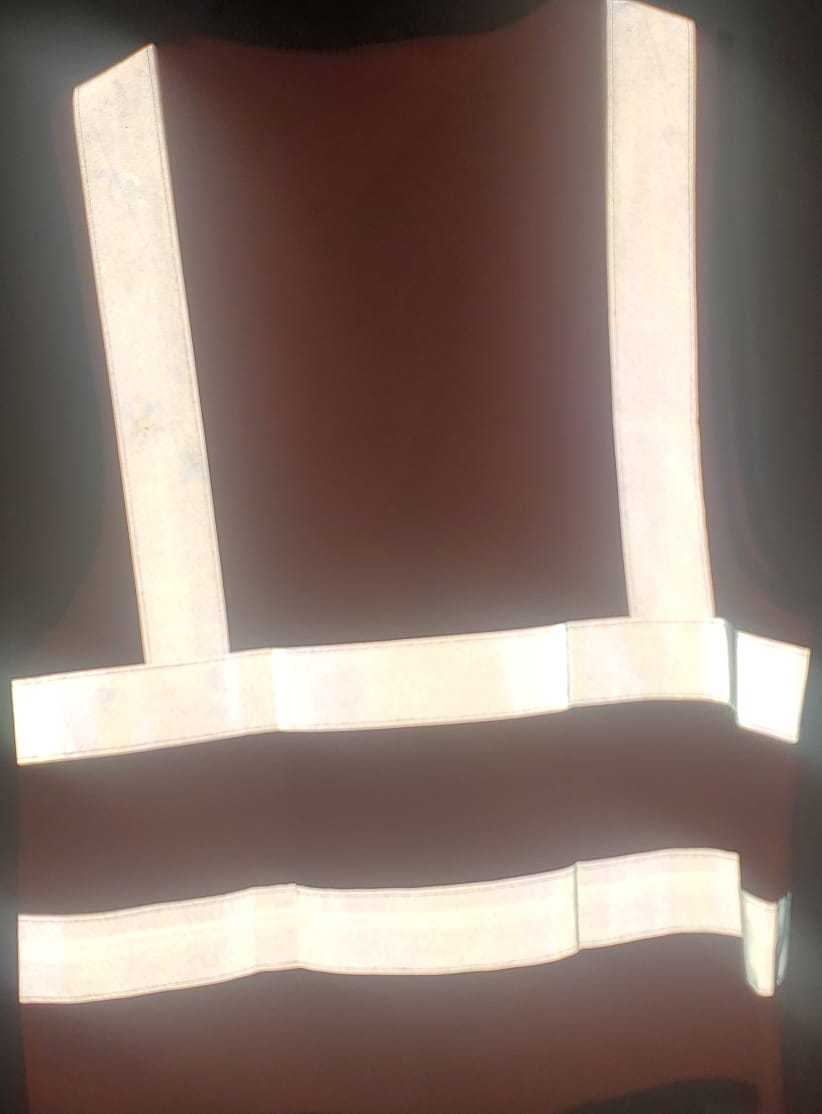vest: (2, 5, 822, 1114)
